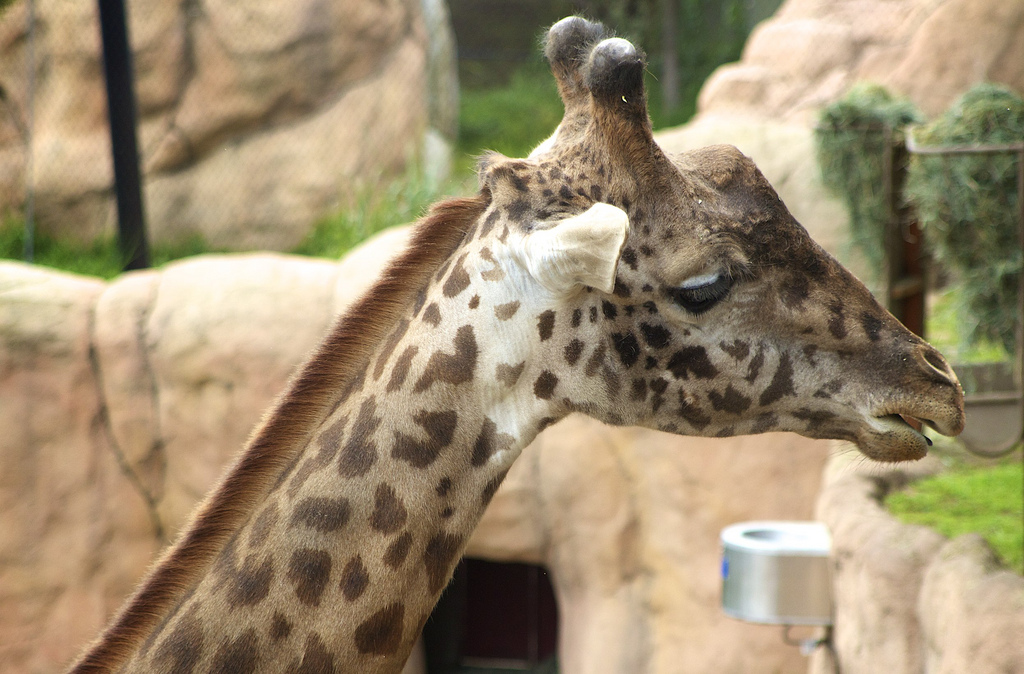giraffe: (181, 38, 935, 613)
